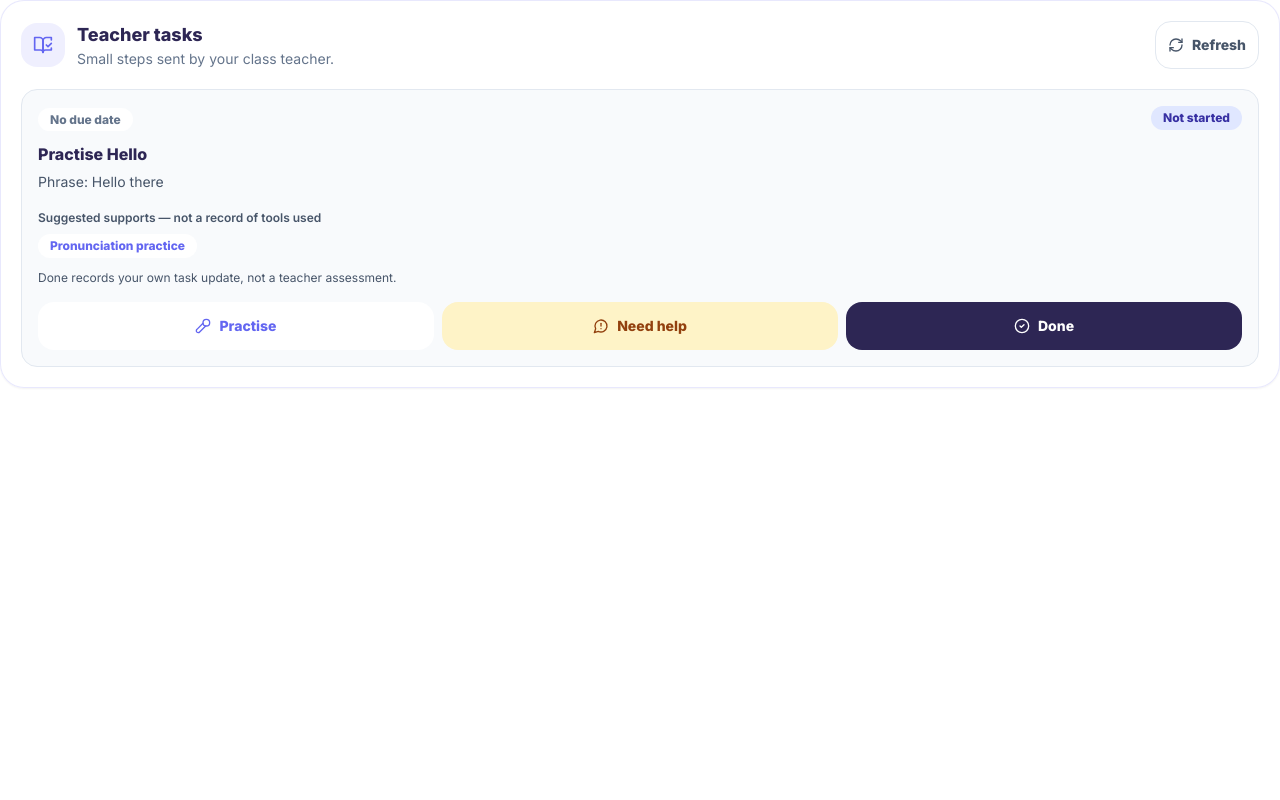
Test case: Done does not invent pronunciation tool use from a suggested support
Expected: the element "Practise Hello" is shown, [21,89,1259,367]
Click the button "Done": (1044, 326) [846,302,1242,350]
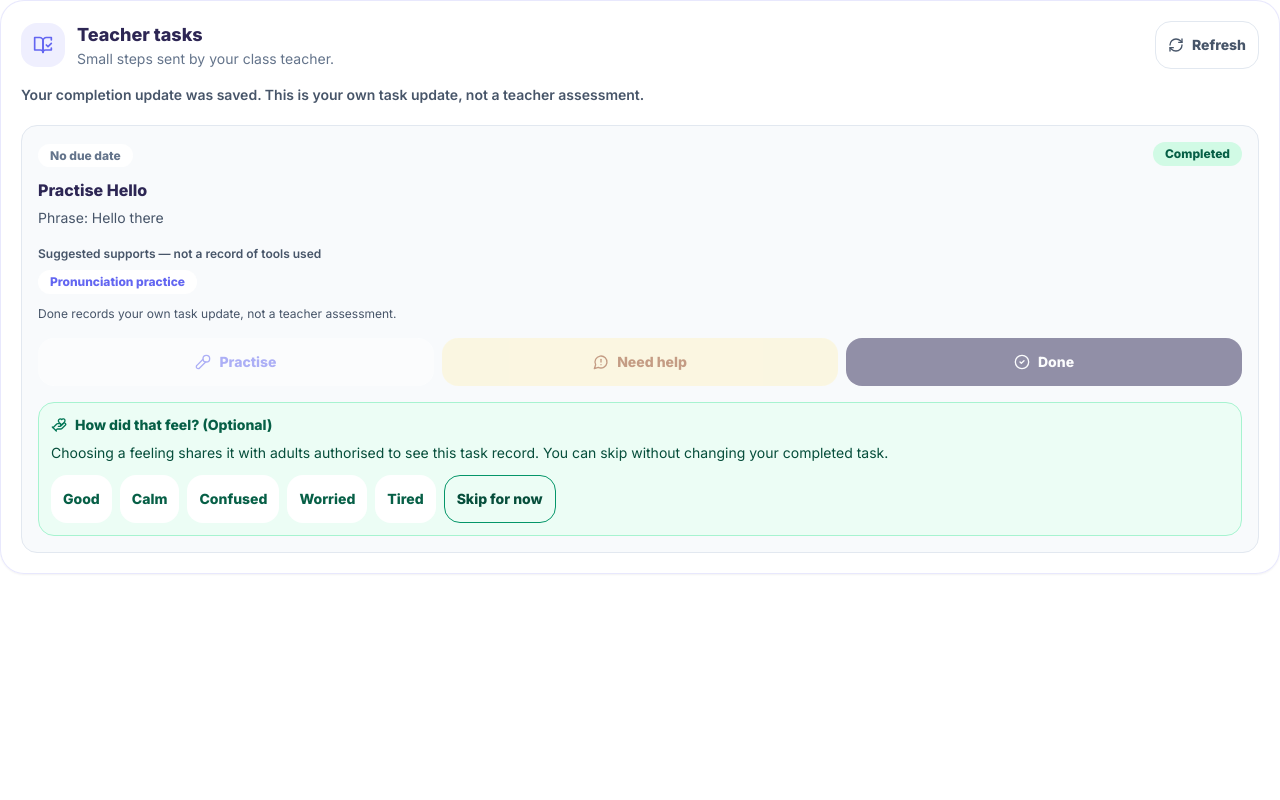
Expected: the text "Completed" is shown, [1153,142,1242,166]
